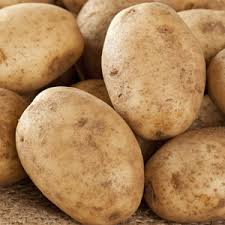potato: (12, 85, 143, 222), (103, 2, 208, 135)
